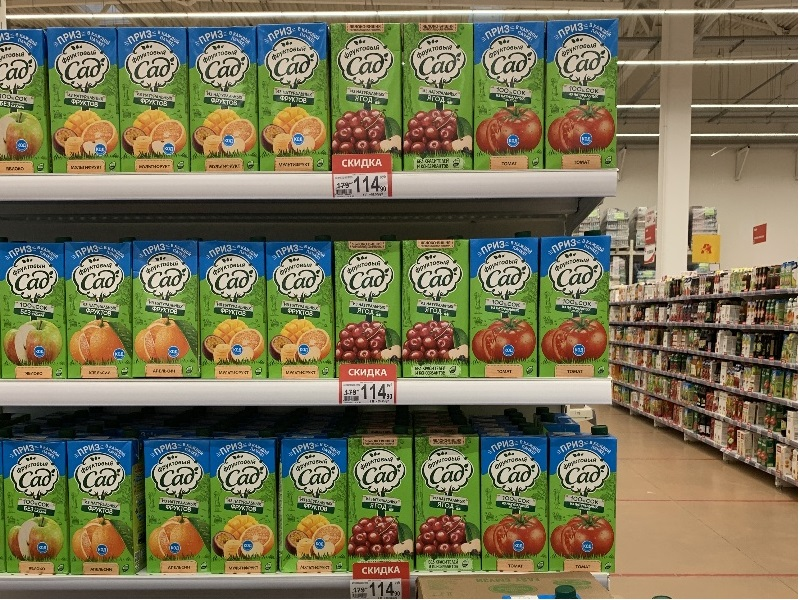juice: (60, 427, 153, 584), (130, 427, 224, 577), (397, 14, 482, 179), (538, 13, 626, 172), (116, 19, 200, 183), (323, 19, 416, 167), (203, 427, 290, 579), (469, 18, 553, 174), (187, 14, 265, 180), (45, 21, 127, 176), (124, 234, 208, 384), (272, 426, 355, 577), (261, 235, 344, 385), (261, 29, 345, 177), (537, 228, 619, 379), (395, 235, 479, 382), (57, 234, 138, 385), (480, 422, 557, 580), (466, 233, 547, 382), (194, 238, 276, 385), (548, 422, 626, 576), (411, 424, 488, 577), (5, 427, 80, 582), (340, 422, 423, 561), (1, 237, 73, 387), (331, 232, 404, 363)
